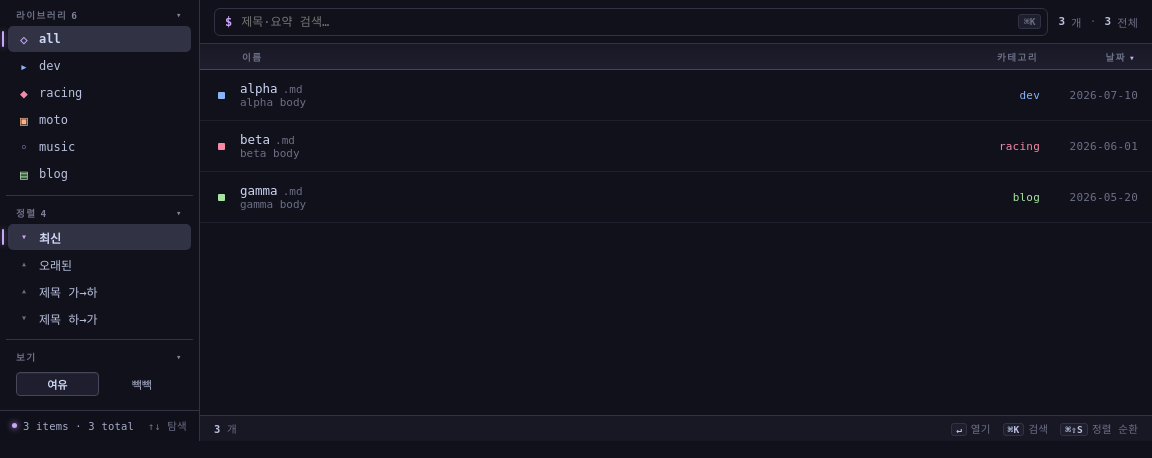
Scenario: FilesApp › 검색 입력 → 결과 필터링, 0개면 EmptyPosts 표시
Type "없는키워드" into the field named "글 검색" at (626, 22), box [239,14,1012,30]
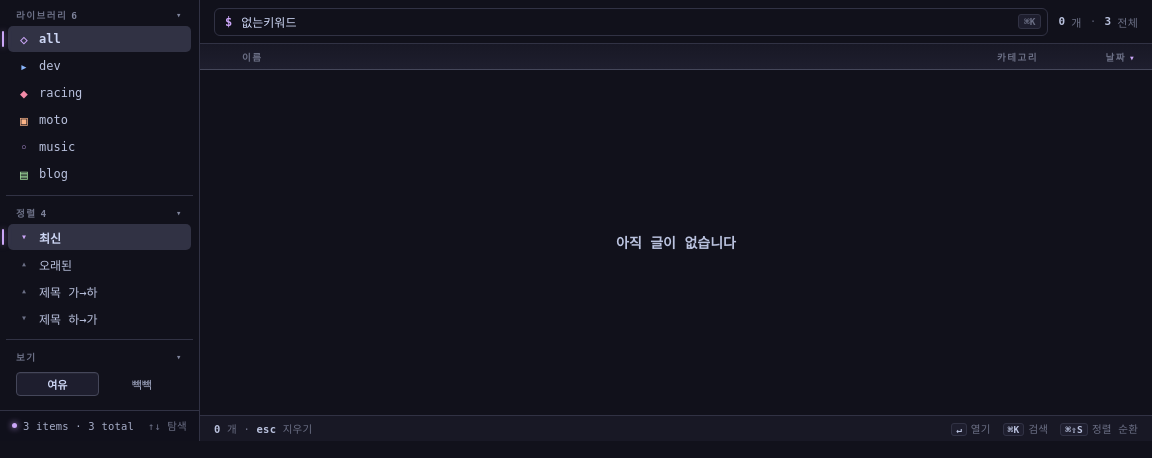
Result: the text "아직 글이 없습니다" is shown at [616,232,736,252]
